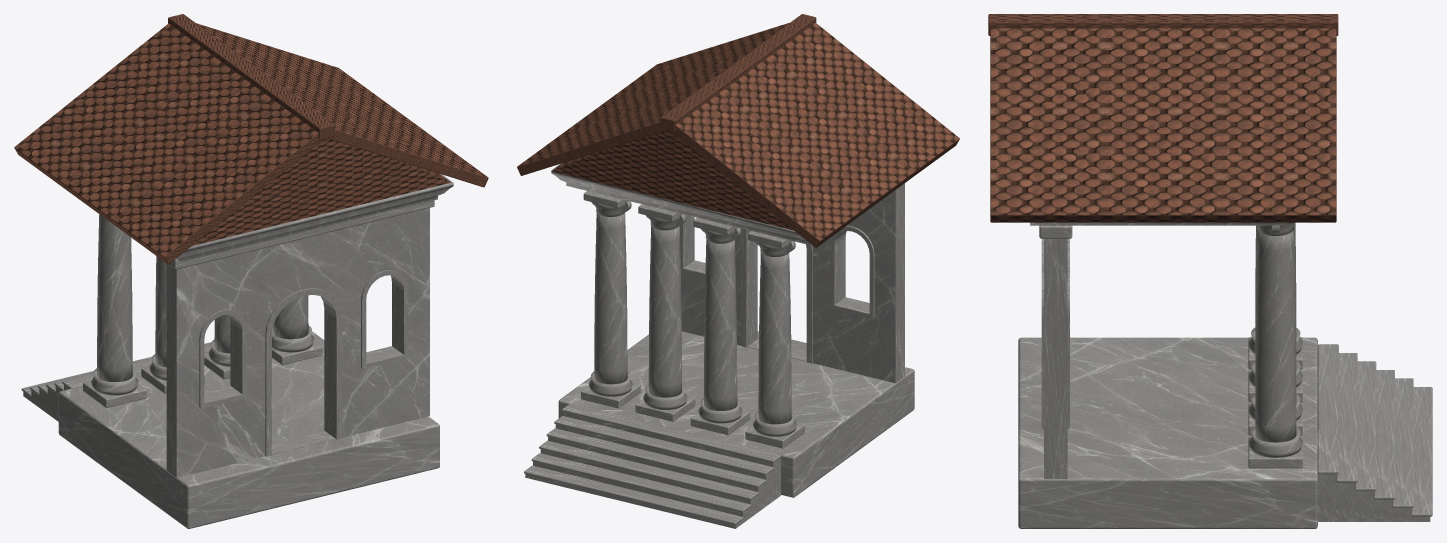
File: temple_portico.glb
3 renders of one model, left to right at view 1: azimuth 30°, elevation 25°; view 2: azimuth 150°, elevation 25°; view 3: azimuth 270°, elevation 25°, orthographic. The views are drawn at different scales.
Visible parts, largest first — view 1: temple_roof, sanctuary_wall, temple_podium, ionic_column_4, perimeter_frieze, ionic_column_1, ionic_column_3, front_staircase, ionic_column_2; view 2: temple_roof, front_staircase, sanctuary_wall, temple_podium, ionic_column_1, ionic_column_4, ionic_column_2, ionic_column_3, perimeter_frieze; view 3: temple_roof, temple_podium, front_staircase, ionic_column_1, sanctuary_wall, perimeter_frieze, ionic_column_2, ionic_column_3, ionic_column_4.
Boxes of the visible parts, box(x1,y1,x2,y2) form: temple_roof: box(14, 14, 488, 264); sanctuary_wall: box(166, 200, 434, 477); temple_podium: box(58, 331, 439, 528); ionic_column_4: box(83, 214, 146, 407); perimeter_frieze: box(176, 174, 453, 261); ionic_column_1: box(272, 295, 322, 364); ionic_column_3: box(141, 256, 204, 393); front_staircase: box(21, 342, 211, 421); ionic_column_2: box(204, 314, 230, 379); temple_roof: box(517, 14, 959, 247); front_staircase: box(524, 403, 781, 528); sanctuary_wall: box(679, 183, 904, 383); temple_podium: box(558, 331, 914, 497); ionic_column_1: box(581, 191, 640, 408); ionic_column_4: box(745, 231, 804, 448); ionic_column_2: box(635, 204, 695, 421); ionic_column_3: box(690, 217, 750, 435); perimeter_frieze: box(551, 163, 808, 244); temple_roof: box(988, 14, 1338, 222); temple_podium: box(1018, 337, 1317, 528); front_staircase: box(1318, 344, 1432, 521); ionic_column_1: box(1248, 222, 1302, 468); sanctuary_wall: box(1039, 225, 1072, 478); perimeter_frieze: box(1030, 222, 1292, 225); ionic_column_2: box(1248, 225, 1302, 435); ionic_column_3: box(1248, 223, 1302, 402); ionic_column_4: box(1248, 223, 1302, 369).
Size of the model in its own units: 4.62 by 5.2 by 4.75.
Materials: 3 (3 with a texture image).
